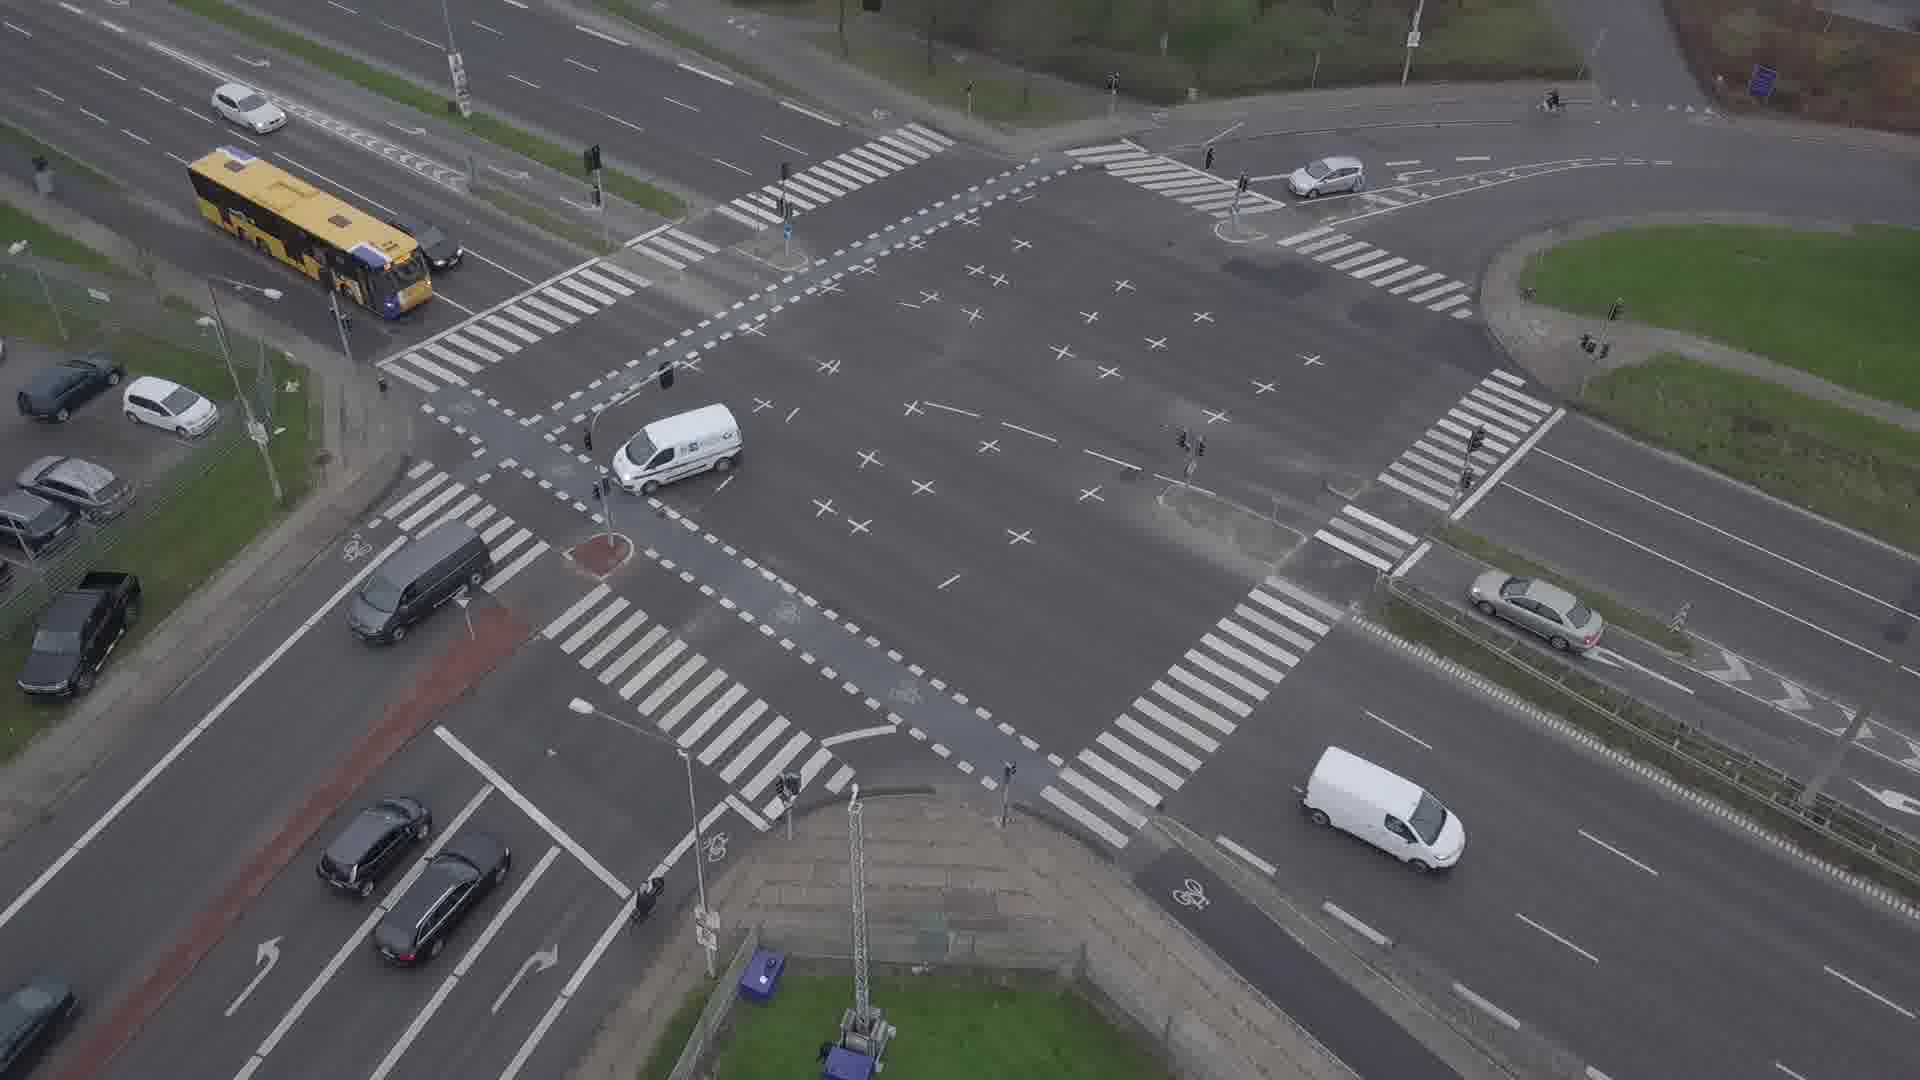bicycle: (629, 875, 666, 925), (1531, 86, 1572, 115), (30, 151, 58, 188)
bus: (188, 145, 433, 319)
car: (374, 826, 513, 968), (315, 798, 432, 902), (1469, 569, 1607, 655), (381, 215, 464, 272), (212, 82, 288, 134), (1287, 157, 1367, 199)
lorry: (1303, 745, 1467, 875), (347, 519, 492, 644), (610, 403, 742, 494)
